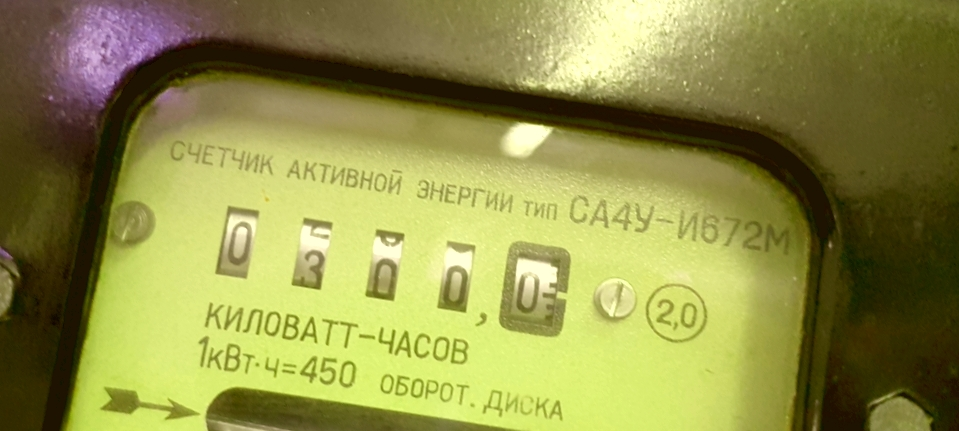0: (509, 266, 544, 318), (222, 214, 255, 269), (435, 260, 471, 310), (365, 251, 399, 302)
3: (293, 243, 328, 290)
screen: (190, 185, 583, 348)
